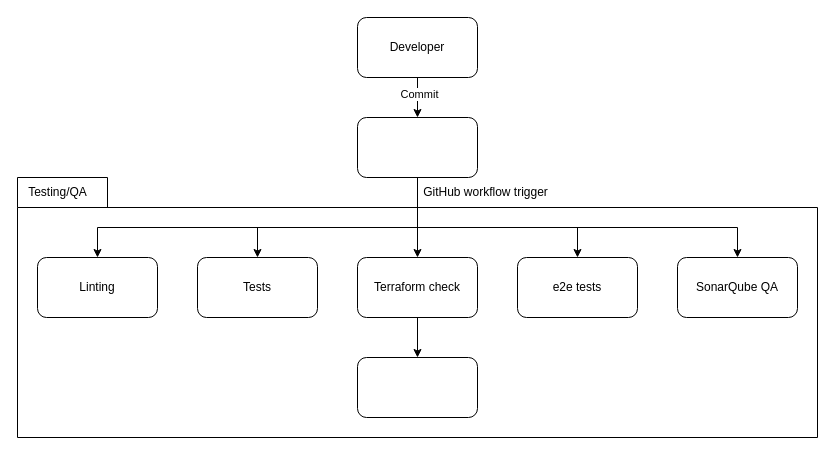
Image size: 835x455. Some labels were removed from this diagram. Here are the shapes that lost their labels. From the top down, the box of each, then its label:
(356, 116, 478, 178): GitHub
(356, 356, 478, 418): Terraform check observability
